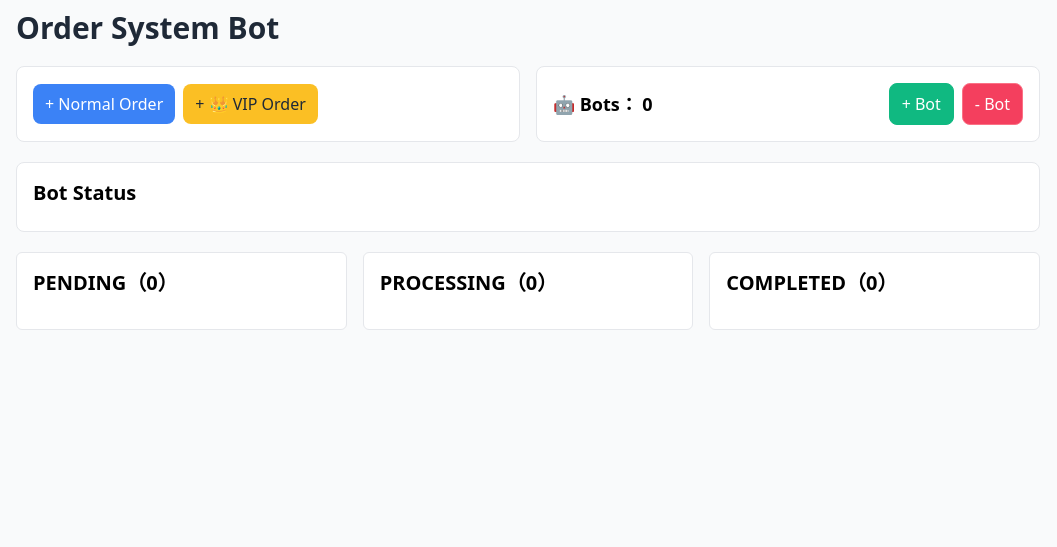
Test case: order-system-bot › 新增一個 NORMAL 訂單和一個 VIP 訂單到 PENDING 區域
Click the button "+ Normal Order".
click(104, 104)  # box [33,84,175,124]
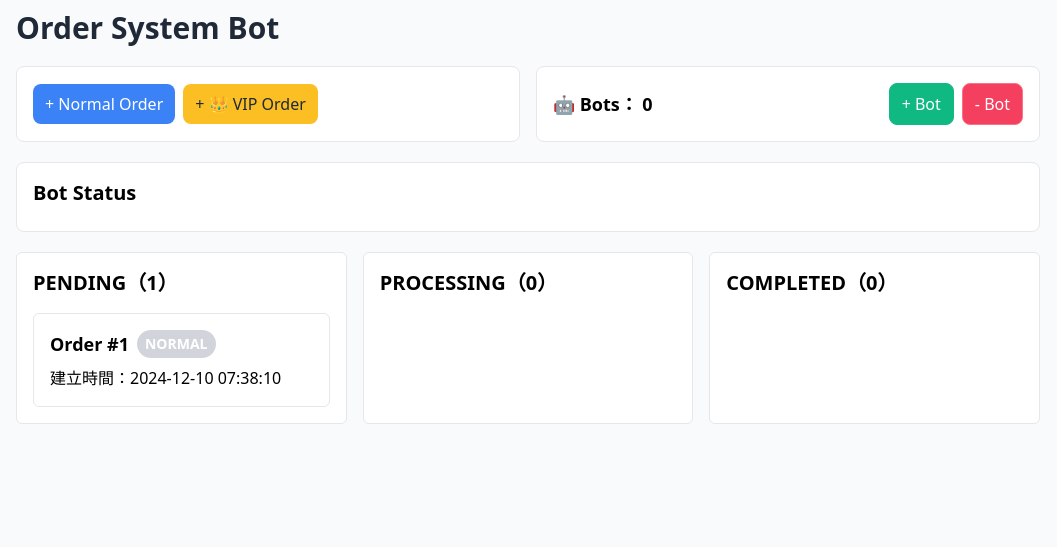
Click the button "+ 👑 VIP Order".
click(251, 104)  # box [183,84,318,124]
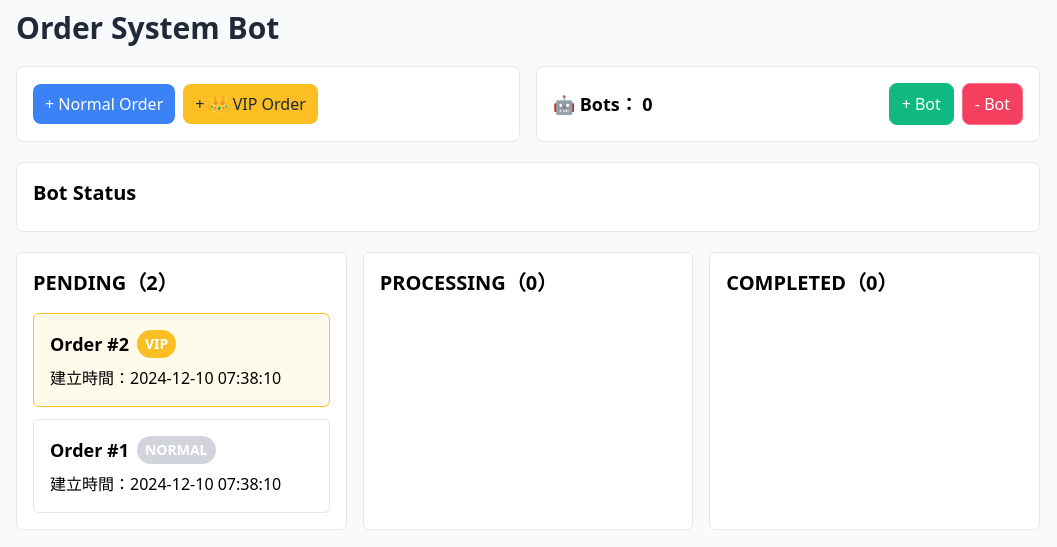
Check: the list item "Order #1 NORMAL 建立時間：2024-12-10 07:38:10" is shown, box [33,419,330,513]
Check: the list item "Order #2 VIP 建立時間：2024-12-10 07:38:10" is shown, box [33,313,330,407]
